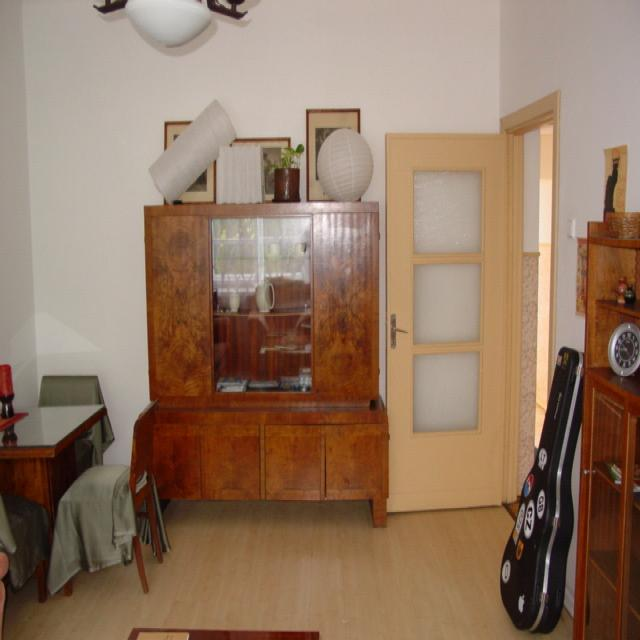chair: (59, 401, 165, 597), (38, 376, 105, 407)
dining table: (0, 404, 108, 521)
